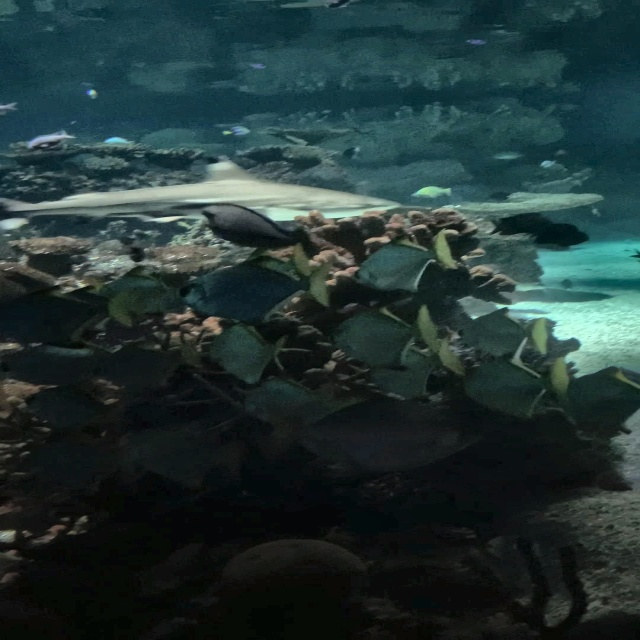fish: (307, 396, 481, 469), (184, 255, 334, 322), (0, 285, 117, 346), (463, 353, 571, 416), (130, 429, 244, 488), (357, 227, 459, 290), (28, 434, 134, 494), (555, 366, 639, 440), (337, 304, 434, 367), (203, 202, 313, 256), (370, 341, 462, 398), (101, 345, 203, 392), (211, 323, 289, 381), (9, 345, 116, 387), (87, 269, 178, 317), (459, 308, 548, 355), (247, 379, 335, 425), (28, 390, 114, 428), (21, 129, 78, 152), (409, 185, 453, 200), (489, 148, 526, 162), (218, 125, 249, 138), (101, 136, 136, 147), (0, 102, 21, 115), (464, 37, 488, 46), (84, 88, 100, 101), (245, 62, 269, 70)
shark: (0, 158, 404, 223)
